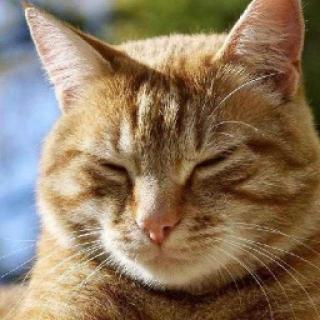cat: (27, 5, 320, 291)
nose: (135, 184, 186, 252)
